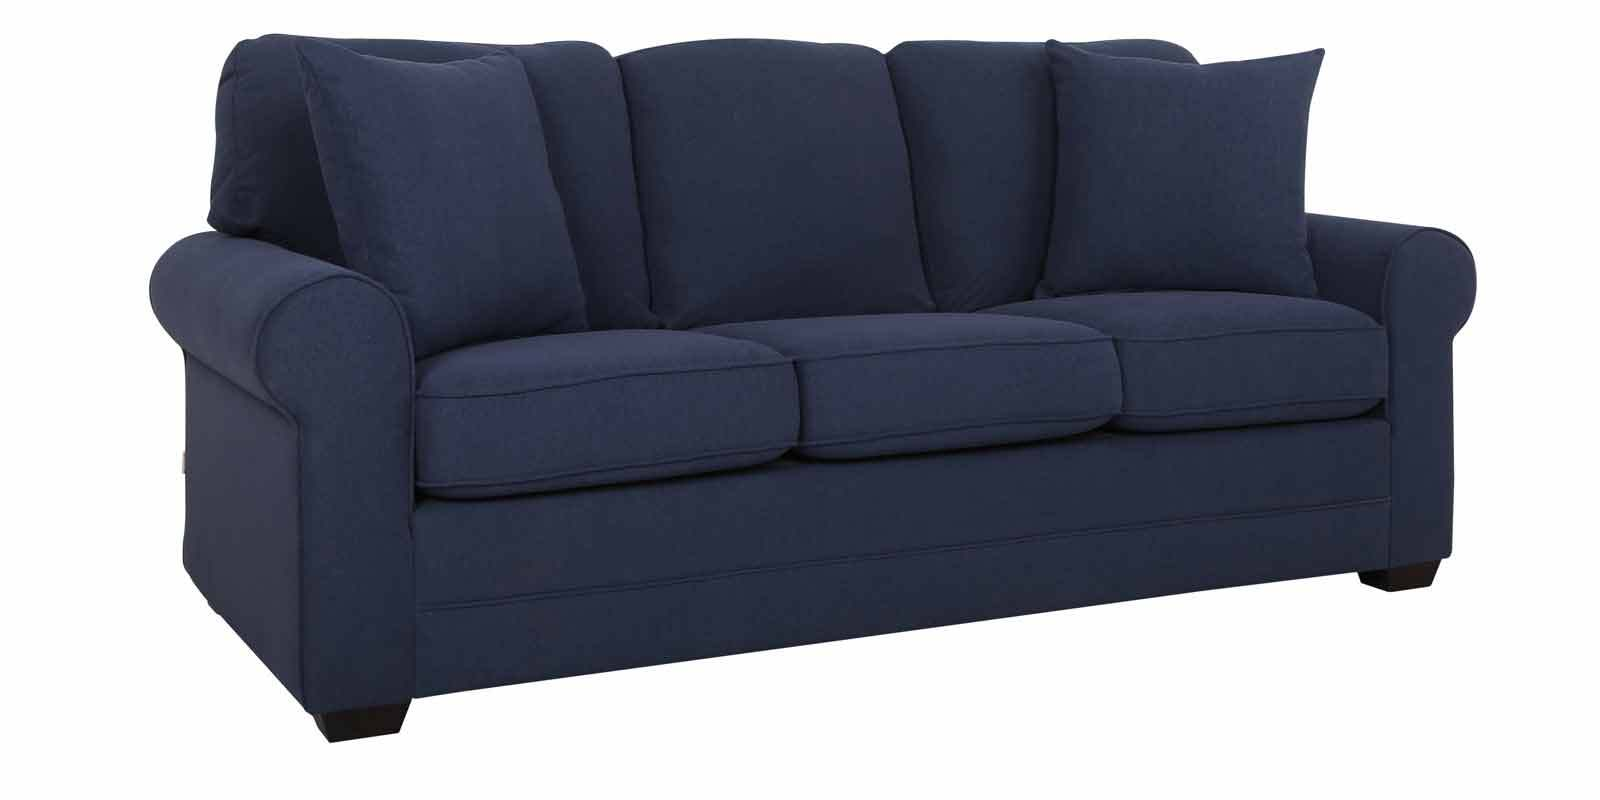Madeira Three Seater Sofa in Navy Blue Colour by CasaCraft: (149, 32, 1477, 742)
